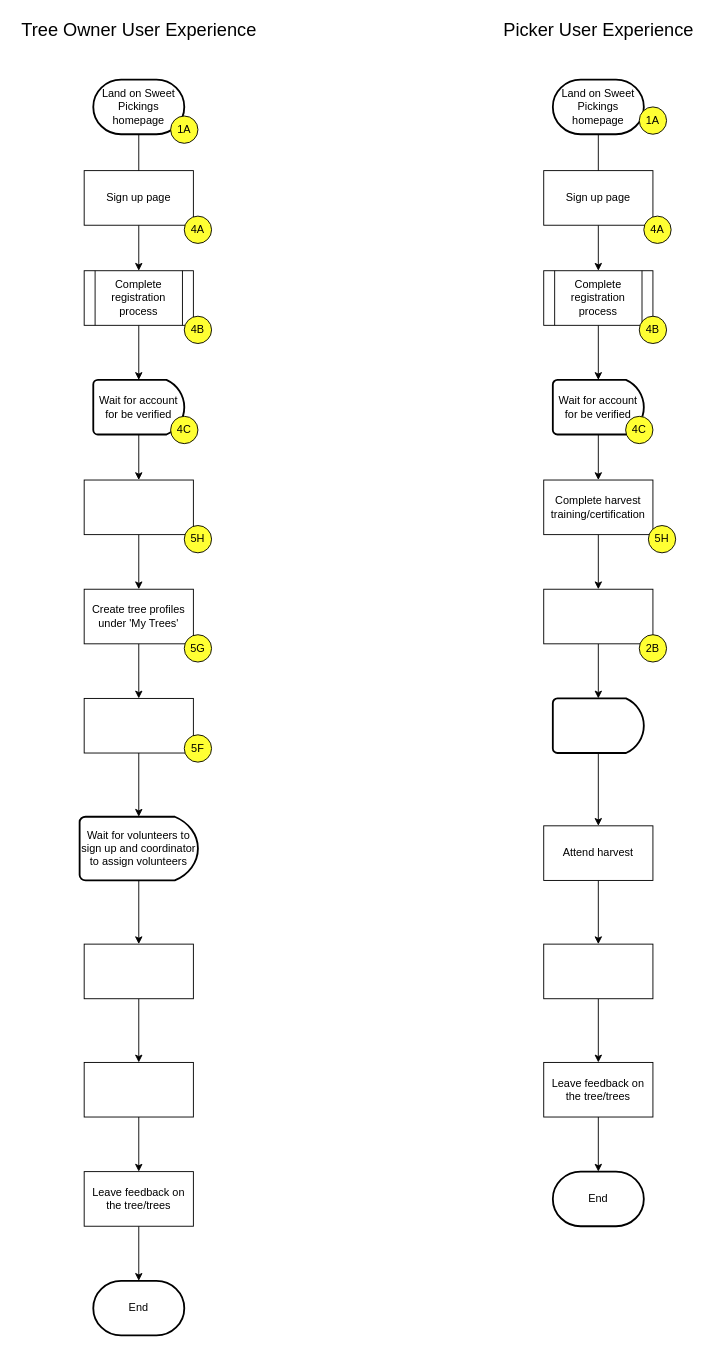
The diagram is 713 pixels wide and 1351 high, and some of its shapes have lost their labels. Here are the shapes that lost their labels. From the top down, the box of each, then its label:
(83, 479, 193, 535): Complete tree owner training/certification
(543, 588, 653, 644): Sign up to harvest opportunities
(83, 698, 193, 753): Create harvest opportunities
(551, 697, 644, 753): Wait for coordinator to confirm
(83, 943, 193, 999): Trees are harvested
(543, 943, 653, 999): Be prompted to leave feedback
(83, 1062, 193, 1117): Be prompted to leave feedback on the harvest group
